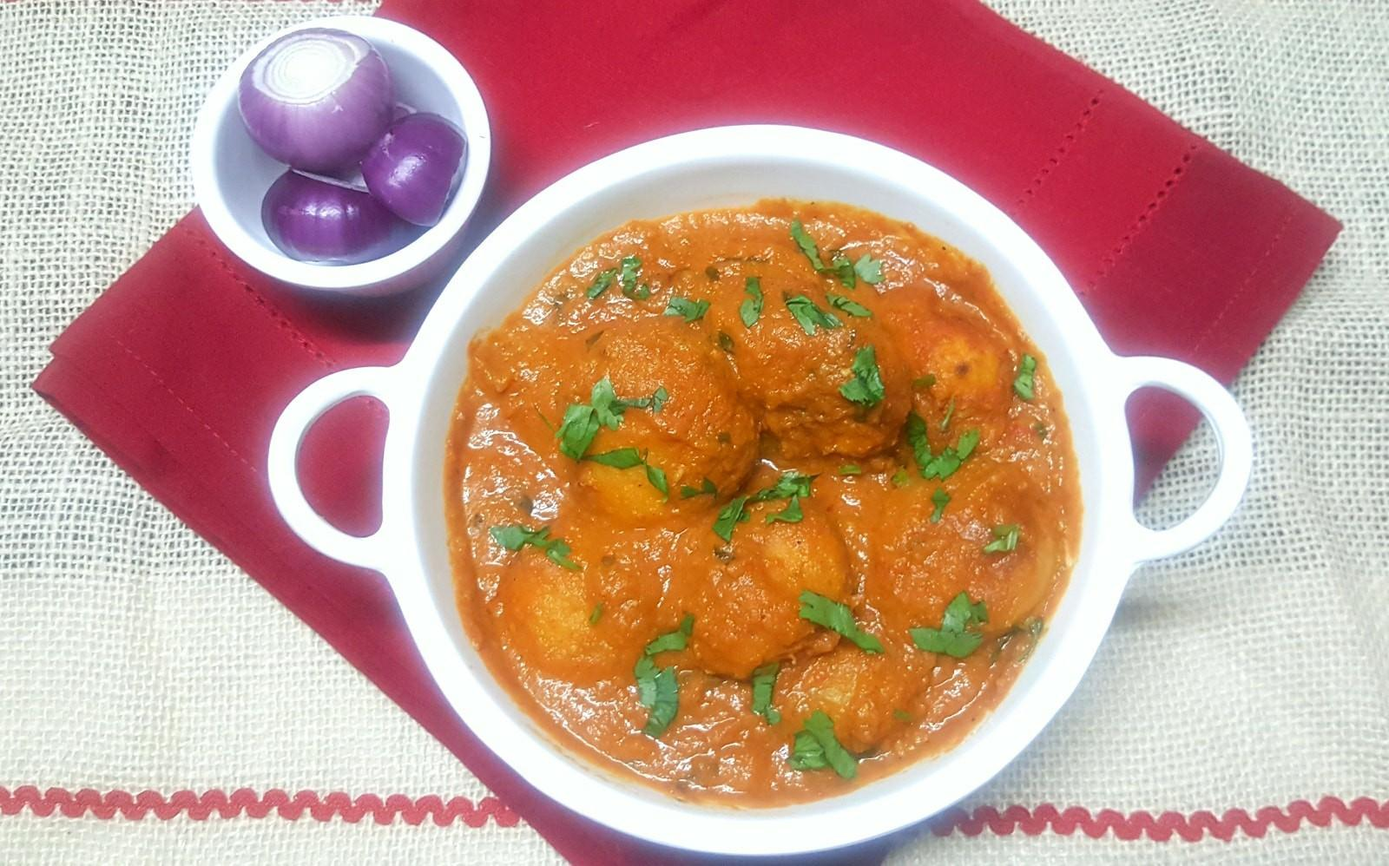DumAloo: (445, 202, 1083, 802)
